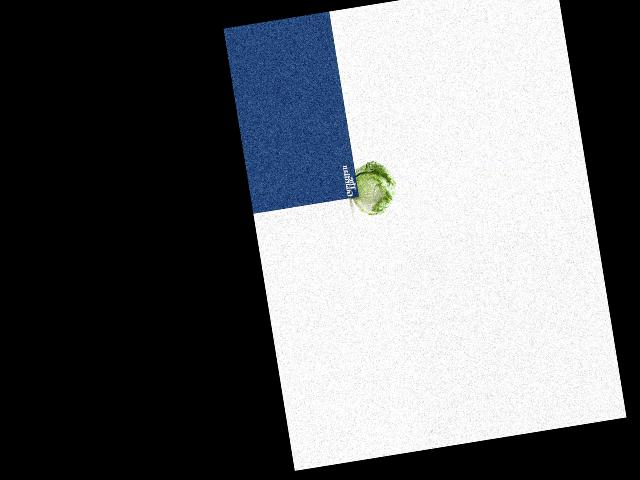lettuce: (347, 158, 402, 217)
